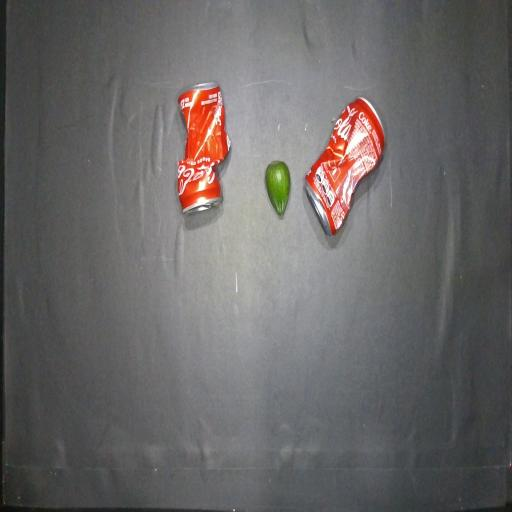higo: (265, 161, 290, 216)
lata_defectuoso: (305, 97, 385, 234), (177, 82, 230, 212)
